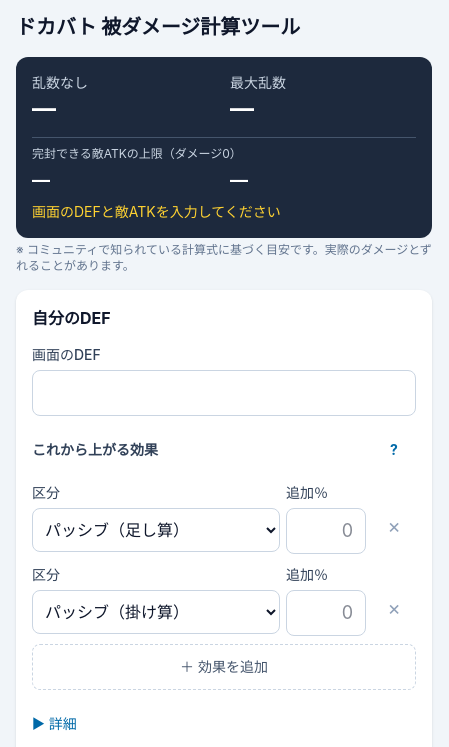
App（敵の攻撃） › 全属性ガードをオンにすると、係数Aが 0.8 に固定され、注意書きが出る
In the field labelled "画面のDEF": (224, 393) [32,370,416,416], type "19500"
(page scrolled)
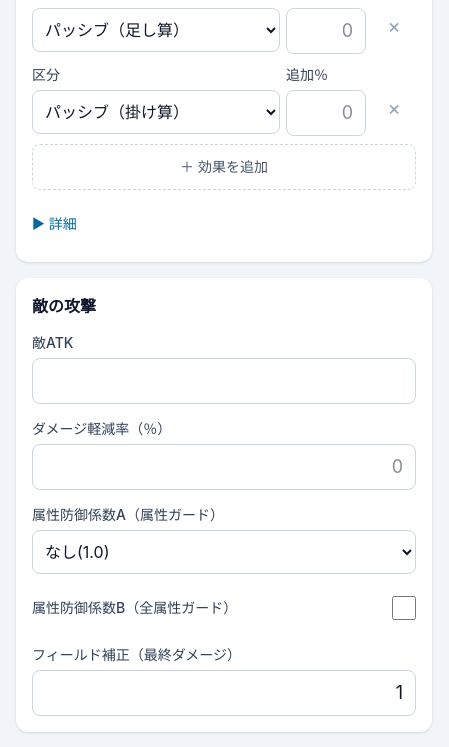
In the field labelled "敵ATK": (224, 381) [32,358,416,404], type "1000000"
(page scrolled)
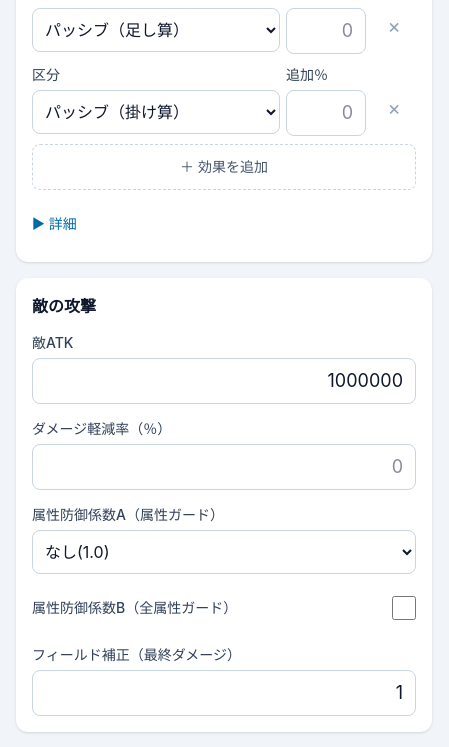
Check: the text "オンの間、係数Aは0.8で計算します" is not shown
Check: the dropdown labelled "属性防御係数A（属性ガード）" is enabled, box [32,530,416,574]
Click the checkbox labelled "属性防御係数B（全属性ガード）": click(404, 608) [392,596,416,620]
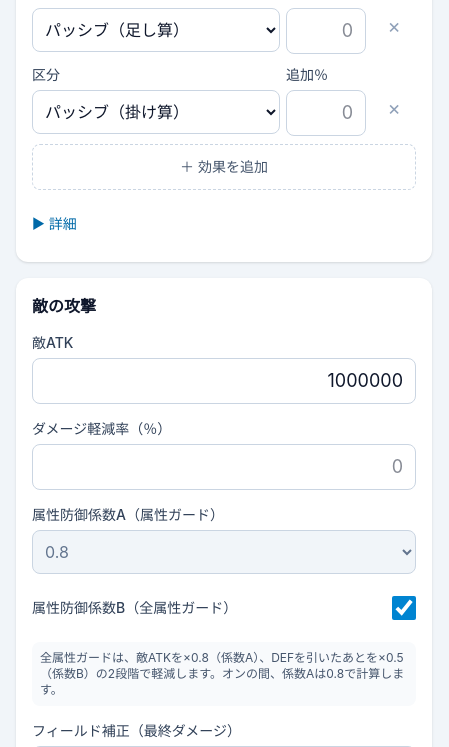
Check: the dropdown labelled "属性防御係数A（属性ガード）" is disabled, box [32,530,416,574]
Check: the dropdown labelled "属性防御係数A（属性ガード）" shows "0.8", box [32,530,416,574]
Check: the text "オンの間、係数Aは0.8で計算します" is shown, box [40,650,404,697]
